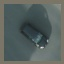car: (18, 21, 50, 49)
